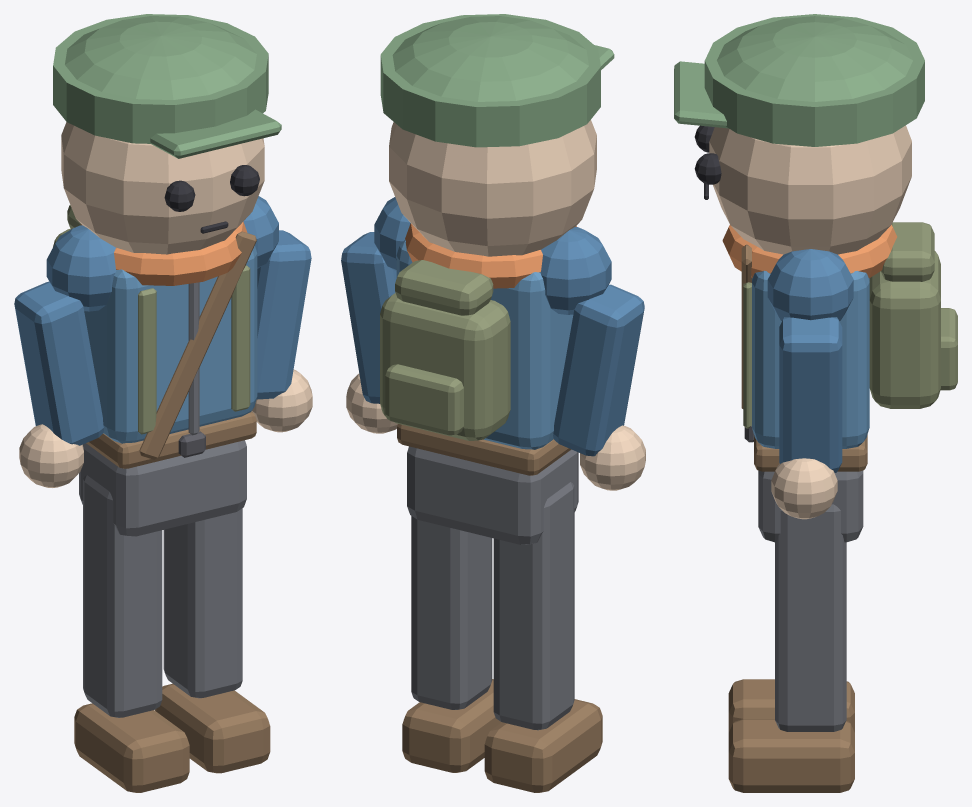
The model's file is PlayerPreview.fbx.
3 views of the same model, side by side, from view 1: azimuth 30°, elevation 25°; view 2: azimuth 150°, elevation 25°; view 3: azimuth 270°, elevation 25° (orthographic). The views are drawn at different scales.
Visible parts, largest first — view 1: Head, Leg_L, Torso, Leg_R, CapTop, CapCrown, Hips, Arm_L, Boot_L, Boot_R, Arm_R, Strap (+13 smaller); view 2: Head, Leg_L, Leg_R, CapTop, CapCrown, Backpack, Hips, Arm_L, Torso, Boot_L, Boot_R, Arm_R (+8 smaller); view 3: Head, Leg_R, CapTop, CapCrown, Backpack, Arm_R, Torso, Boot_R, Shoulder_R, Hand_R, Hips, PackTop (+8 smaller).
Part boxes in pixels (x1=…): Head: x1=61, y1=122, x2=264, y2=254; Leg_L: x1=83, y1=475, x2=162, y2=717; Torso: x1=84, y1=245, x2=257, y2=443; Leg_R: x1=163, y1=508, x2=242, y2=698; CapTop: x1=65, y1=16, x2=256, y2=99; CapCrown: x1=53, y1=14, x2=268, y2=143; Hips: x1=79, y1=440, x2=246, y2=536; Arm_L: x1=14, y1=281, x2=103, y2=445; Boot_L: x1=74, y1=703, x2=189, y2=792; Boot_R: x1=155, y1=683, x2=270, y2=773; Arm_R: x1=256, y1=230, x2=311, y2=399; Strap: x1=139, y1=231, x2=256, y2=459; Head: x1=389, y1=120, x2=596, y2=256; Leg_L: x1=493, y1=482, x2=574, y2=730; Leg_R: x1=411, y1=516, x2=492, y2=709; CapTop: x1=392, y1=16, x2=588, y2=101; CapCrown: x1=380, y1=14, x2=600, y2=147; Backpack: x1=380, y1=293, x2=510, y2=440; Hips: x1=407, y1=446, x2=578, y2=544; Arm_L: x1=553, y1=284, x2=644, y2=456; Torso: x1=396, y1=240, x2=573, y2=449; Boot_L: x1=484, y1=699, x2=602, y2=792; Boot_R: x1=402, y1=679, x2=501, y2=772; Arm_R: x1=341, y1=232, x2=396, y2=403; Head: x1=709, y1=125, x2=911, y2=254; Leg_R: x1=775, y1=504, x2=846, y2=731; CapTop: x1=717, y1=16, x2=912, y2=101; CapCrown: x1=704, y1=14, x2=924, y2=146; Backpack: x1=869, y1=251, x2=940, y2=408; Arm_R: x1=779, y1=317, x2=842, y2=472; Torso: x1=752, y1=270, x2=869, y2=448; Boot_R: x1=728, y1=719, x2=854, y2=792; Shoulder_R: x1=767, y1=249, x2=853, y2=321; Hand_R: x1=771, y1=458, x2=837, y2=519; Hips: x1=758, y1=470, x2=863, y2=542; PackTop: x1=880, y1=222, x2=934, y2=281.
Size of the model in its own units: 0.7896 by 1.91 by 0.6751.
